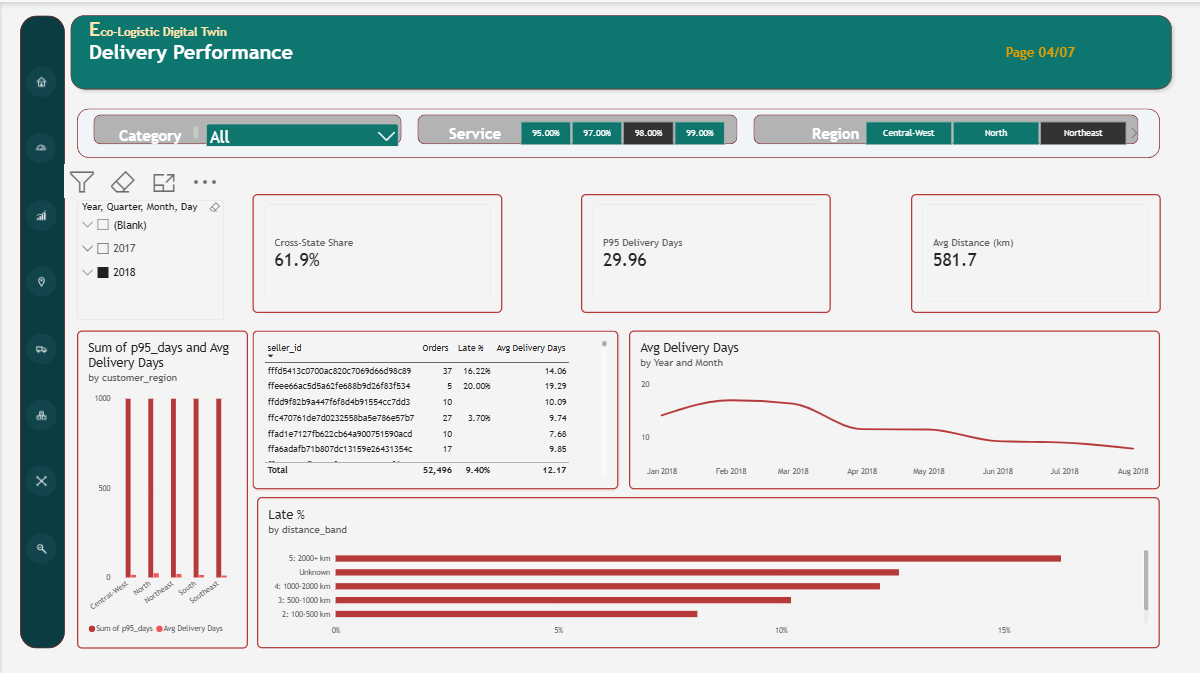

Layout of this report page (visuals, bound fields, positions):
{"tool":"powerbi","page":{"name":"Delivery Performance","canvas":[1920,1080],"ordinal":4},"visuals":[{"type":"shape","box":[119.3,169.4,1722.6,78.7],"z":0,"group":"g1"},{"type":"group","id":"g1","title":"Group 3","box":[119.3,169.4,1722.6,78.7],"z":0},{"type":"textbox","box":[711,195.6,494.5,29.1],"z":0,"group":"g4"},{"type":"shape","box":[146.5,179.9,489.8,47.2],"z":1000,"group":"g1"},{"type":"textbox","box":[1289.1,195.6,295.1,76.3],"z":1000,"group":"g4"},{"type":"clusteredColumnChart","fields":{"Category":["fact_delivery.customer_region"],"Y":["Sum(state_map.p95_days)","_Measures.Avg Delivery Days"]},"box":[119.3,522.5,272,505.8],"z":1000},{"type":"shape","box":[660.9,179.9,508.9,47.2],"z":2000,"group":"g1"},{"type":"barChart","fields":{"Category":["fact_delivery.distance_band"],"Y":["_Measures.Late %"]},"box":[405.6,787.4,1436.3,241],"z":2000},{"type":"shape","box":[1194.2,179.9,612.3,47.2],"z":3000,"group":"g1"},{"type":"lineChart","fields":{"Category":["dim_date.date_id.Variation.Date Hierarchy.Year","dim_date.date_id.Variation.Date Hierarchy.Month"],"Y":["_Measures.Avg Delivery Days"]},"box":[997.3,522.5,844.6,252.9],"z":3000},{"type":"slicer","fields":{"Values":["demand_weekly.category"]},"box":[320.7,187.4,315.7,40.5],"z":4000,"group":"g1"},{"type":"tableEx","fields":{"Values":["fact_delivery.seller_id","_Measures.Orders","_Measures.Late %","_Measures.Avg Delivery Days"]},"box":[398.4,522.5,582.2,252.9],"z":4000},{"type":"slicer","fields":{"Values":["demand_weekly.region"]},"box":[1352.1,187.4,454.5,40.5],"z":5000,"group":"g1"},{"type":"cardVisual","fields":{"Data":["_Measures.Avg Distance (km)"]},"box":[1444.7,305.3,397,189],"z":5000},{"type":"slicer","fields":{"Values":["inventory_policy.service_level"]},"box":[805.1,189.6,364.7,40.5],"z":6000,"group":"g1"},{"type":"cardVisual","fields":{"Data":["_Measures.Cross-State Share"]},"box":[397.4,305.3,397.4,189.5],"z":6000},{"type":"shape","box":[100,11.1,1769.4,136.1],"z":7000,"group":"g2"},{"type":"textbox","box":[187.1,198.4,126.2,29],"z":7000,"group":"g1"},{"type":"cardVisual","fields":{"Data":["_Measures.P95 Delivery Days"]},"box":[921.2,305.3,397,189],"z":7000},{"type":"textbox","box":[138.9,22.2,1758.3,113.9],"z":8000,"group":"g2"},{"type":"textbox","box":[710,193.3,170,50],"z":8000},{"type":"group","id":"g2","title":"Group 2","box":[100,11.1,1797.2,136.1],"z":9000},{"type":"group","id":"g3","title":"Group 4","box":[28.6,21.5,71.6,1006.9],"z":10000},{"type":"slicer","fields":{"Values":["dim_date.date_id.Variation.Date Hierarchy.Year","dim_date.date_id.Variation.Date Hierarchy.Quarter","dim_date.date_id.Variation.Date Hierarchy.Month","dim_date.date_id.Variation.Date Hierarchy.Day"]},"box":[119.3,314.9,235,190],"z":11000},{"type":"group","id":"g4","title":"Group 5","box":[711,195.6,873.2,76.3],"z":12000},{"type":"shape","box":[28.6,21.5,71.6,1006.9],"z":14000,"group":"g3"},{"type":"textbox","box":[1519.4,66.7,263.9,55.6],"z":16000,"group":"g2"},{"type":"actionButton","box":[38.8,102.3,48.9,49.1],"z":17000,"group":"g5"},{"type":"actionButton","box":[38.8,843.9,48.9,49.1],"z":21000,"group":"g5"},{"type":"actionButton","box":[38.8,738,48.9,49.1],"z":22000,"group":"g5"},{"type":"actionButton","box":[38.7,631.9,49.2,49.4],"z":23000,"group":"g5"},{"type":"actionButton","box":[38.8,526,48.9,49.1],"z":24000,"group":"g5"},{"type":"actionButton","box":[38.8,314.3,48.9,49.1],"z":25000,"group":"g5"},{"type":"actionButton","box":[38.8,420.2,48.9,49.1],"z":26000,"group":"g5"},{"type":"actionButton","box":[39.6,208.2,47.4,49.4],"z":27000,"group":"g5"},{"type":"group","id":"g5","title":"Group 1","box":[38.7,102.3,49.2,790.7],"z":27001,"group":"g3"}]}

Visuals, with their boxes on the page's 1920x1080 design canvas (x1, y1, x2, y2). These are canvas units, not pixel positions in the 1200x673 screenshot, which may show the page scaled, cropped or inside an application window:
shape: (x1=119, y1=169, x2=1842, y2=248)
"Group 3" group: (x1=119, y1=169, x2=1842, y2=248)
textbox: (x1=711, y1=196, x2=1206, y2=225)
shape: (x1=146, y1=180, x2=636, y2=227)
textbox: (x1=1289, y1=196, x2=1584, y2=272)
clusteredColumnChart - fact_delivery.customer_region x Sum(state_map.p95_days): (x1=119, y1=522, x2=391, y2=1028)
shape: (x1=661, y1=180, x2=1170, y2=227)
barChart - fact_delivery.distance_band x _Measures.Late %: (x1=406, y1=787, x2=1842, y2=1028)
shape: (x1=1194, y1=180, x2=1806, y2=227)
lineChart - dim_date.date_id.Variation.Date Hierarchy.Year x dim_date.date_id.Variation.Date Hierarchy.Month: (x1=997, y1=522, x2=1842, y2=775)
slicer - demand_weekly.category: (x1=321, y1=187, x2=636, y2=228)
tableEx - fact_delivery.seller_id x _Measures.Orders: (x1=398, y1=522, x2=981, y2=775)
slicer - demand_weekly.region: (x1=1352, y1=187, x2=1807, y2=228)
cardVisual - _Measures.Avg Distance (km): (x1=1445, y1=305, x2=1842, y2=494)
slicer - inventory_policy.service_level: (x1=805, y1=190, x2=1170, y2=230)
cardVisual - _Measures.Cross-State Share: (x1=397, y1=305, x2=795, y2=495)
shape: (x1=100, y1=11, x2=1869, y2=147)
textbox: (x1=187, y1=198, x2=313, y2=227)
cardVisual - _Measures.P95 Delivery Days: (x1=921, y1=305, x2=1318, y2=494)
textbox: (x1=139, y1=22, x2=1897, y2=136)
textbox: (x1=710, y1=193, x2=880, y2=243)
"Group 2" group: (x1=100, y1=11, x2=1897, y2=147)
"Group 4" group: (x1=29, y1=22, x2=100, y2=1028)
slicer - dim_date.date_id.Variation.Date Hierarchy.Year x dim_date.date_id.Variation.Date Hierarchy.Quarter: (x1=119, y1=315, x2=354, y2=505)
"Group 5" group: (x1=711, y1=196, x2=1584, y2=272)
shape: (x1=29, y1=22, x2=100, y2=1028)
textbox: (x1=1519, y1=67, x2=1783, y2=122)
actionButton: (x1=39, y1=102, x2=88, y2=151)
actionButton: (x1=39, y1=844, x2=88, y2=893)
actionButton: (x1=39, y1=738, x2=88, y2=787)
actionButton: (x1=39, y1=632, x2=88, y2=681)
actionButton: (x1=39, y1=526, x2=88, y2=575)
actionButton: (x1=39, y1=314, x2=88, y2=363)
actionButton: (x1=39, y1=420, x2=88, y2=469)
actionButton: (x1=40, y1=208, x2=87, y2=258)
"Group 1" group: (x1=39, y1=102, x2=88, y2=893)
